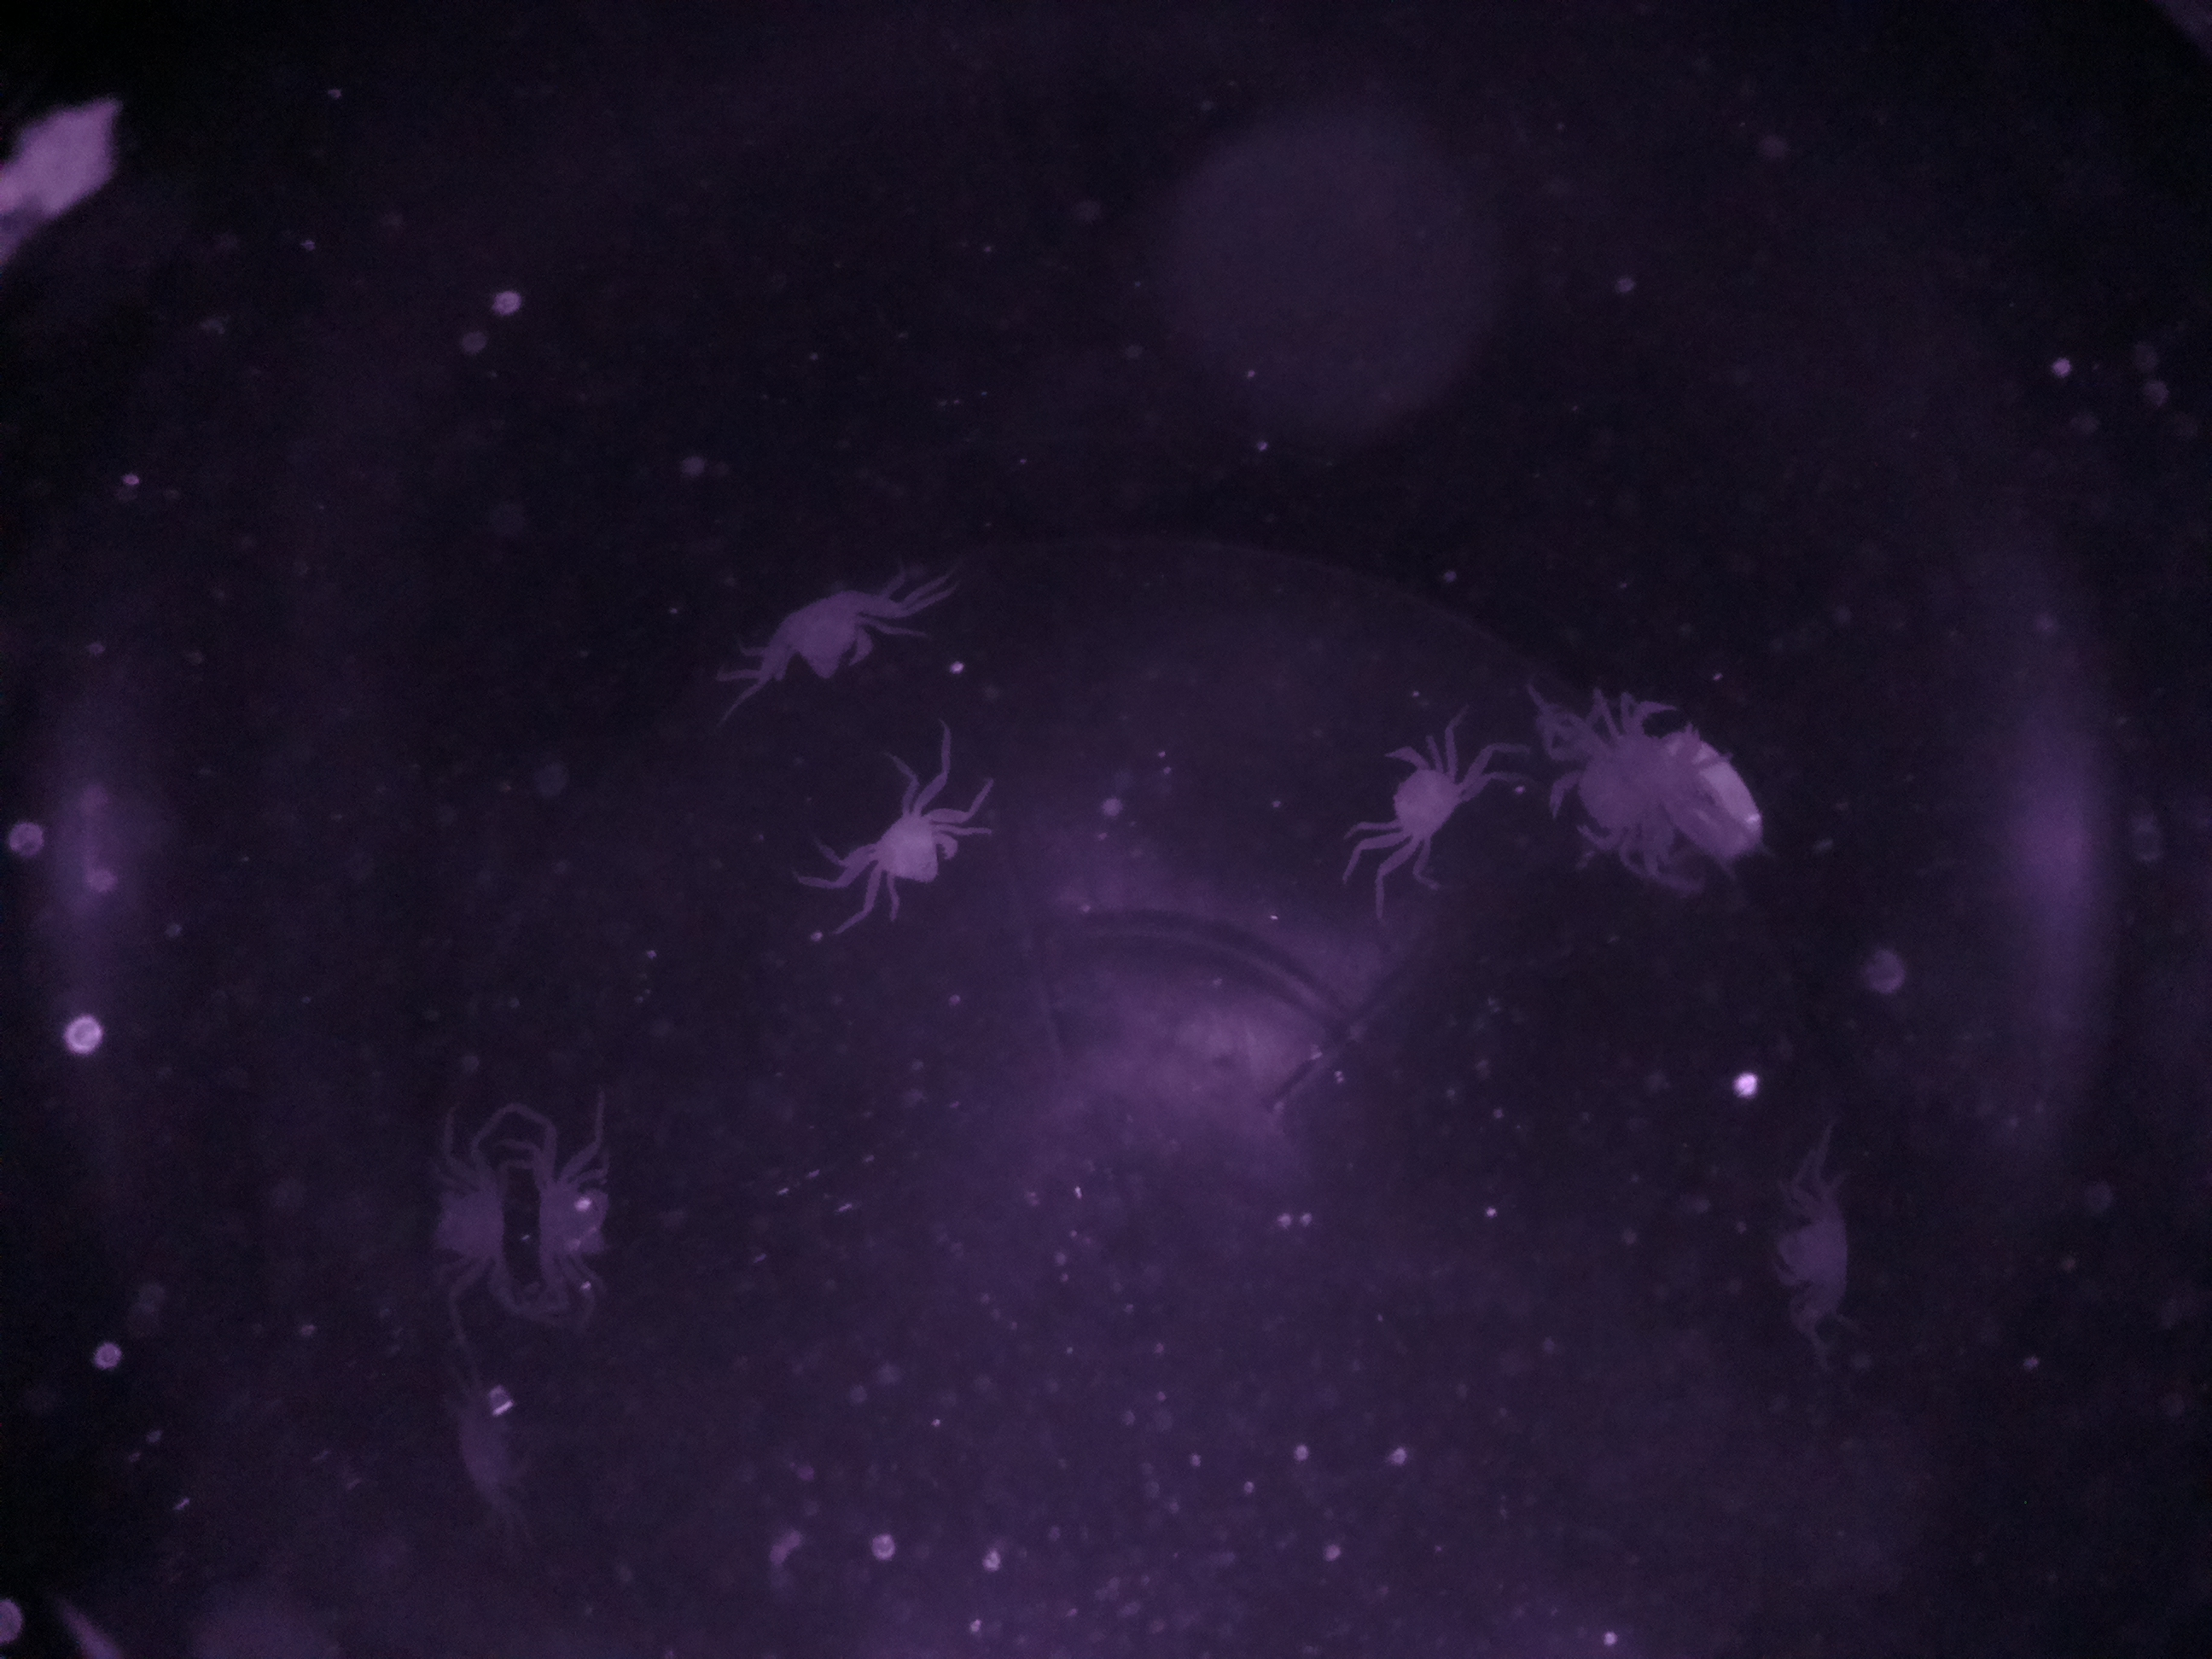Crab: (719, 558, 927, 706), (838, 770, 993, 936), (1341, 701, 1484, 871), (411, 1105, 521, 1319), (529, 1133, 639, 1312)
